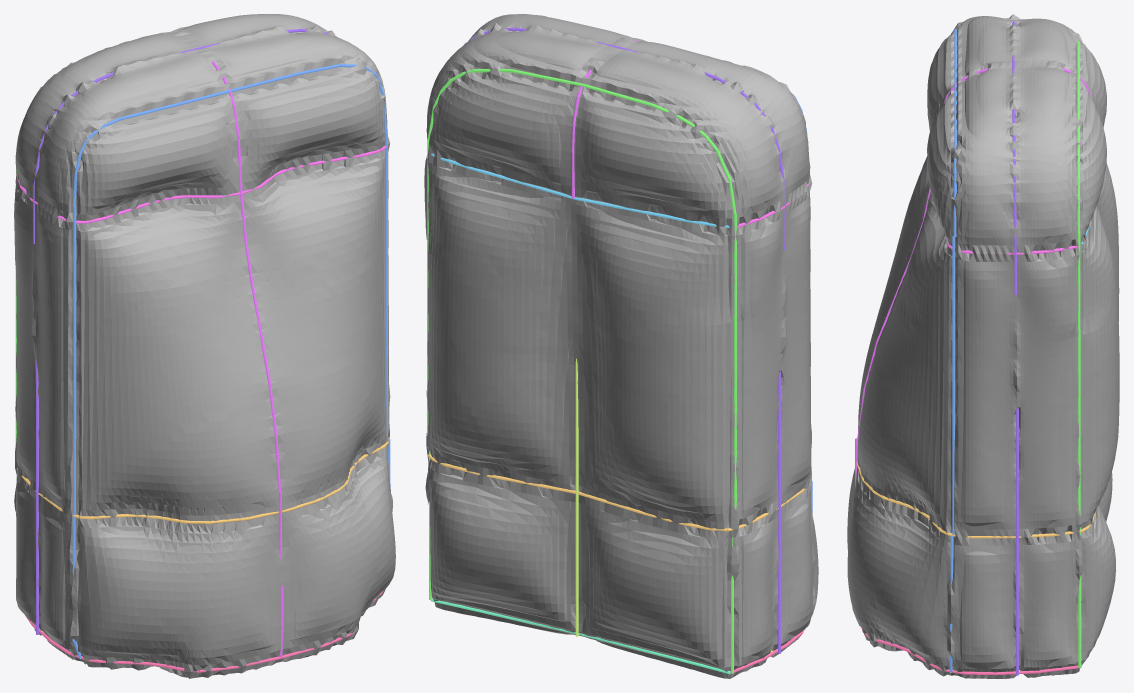
3 renders of one model, left to right at view 1: azimuth 30°, elevation 25°; view 2: azimuth 150°, elevation 25°; view 3: azimuth 270°, elevation 25°, orthographic. The views are drawn at different scales.
Size of the model in its own units: 0.5113 by 0.8235 by 0.3673.
